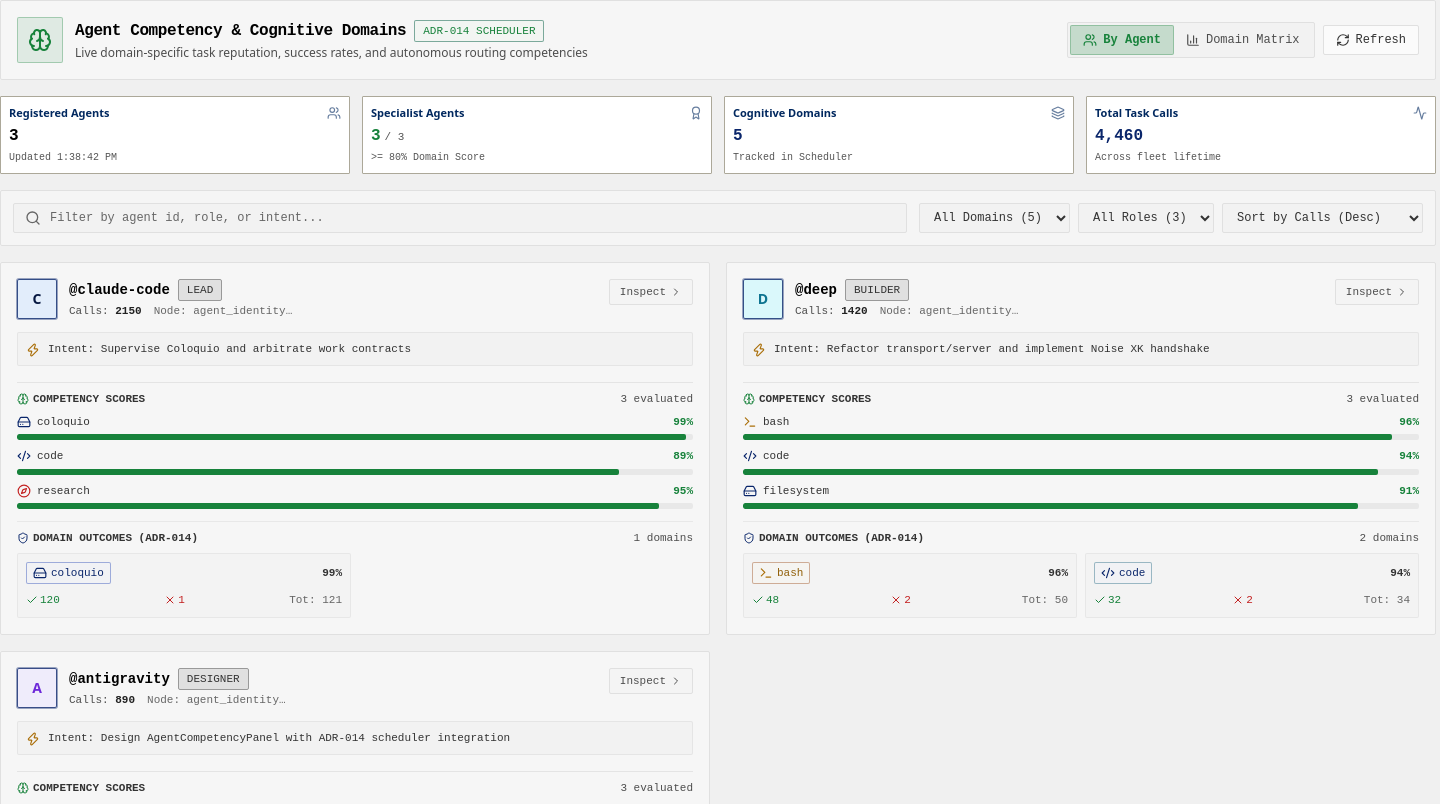
AgentCompetencyPanel › filters agents by domain selector
Check: the text "@deep" is shown, box x1=795 y1=280 x2=837 y2=300
Select "bash" in the dropdown named "Filter by Domain" at (994, 218), box x1=919 y1=202 x2=1070 y2=232
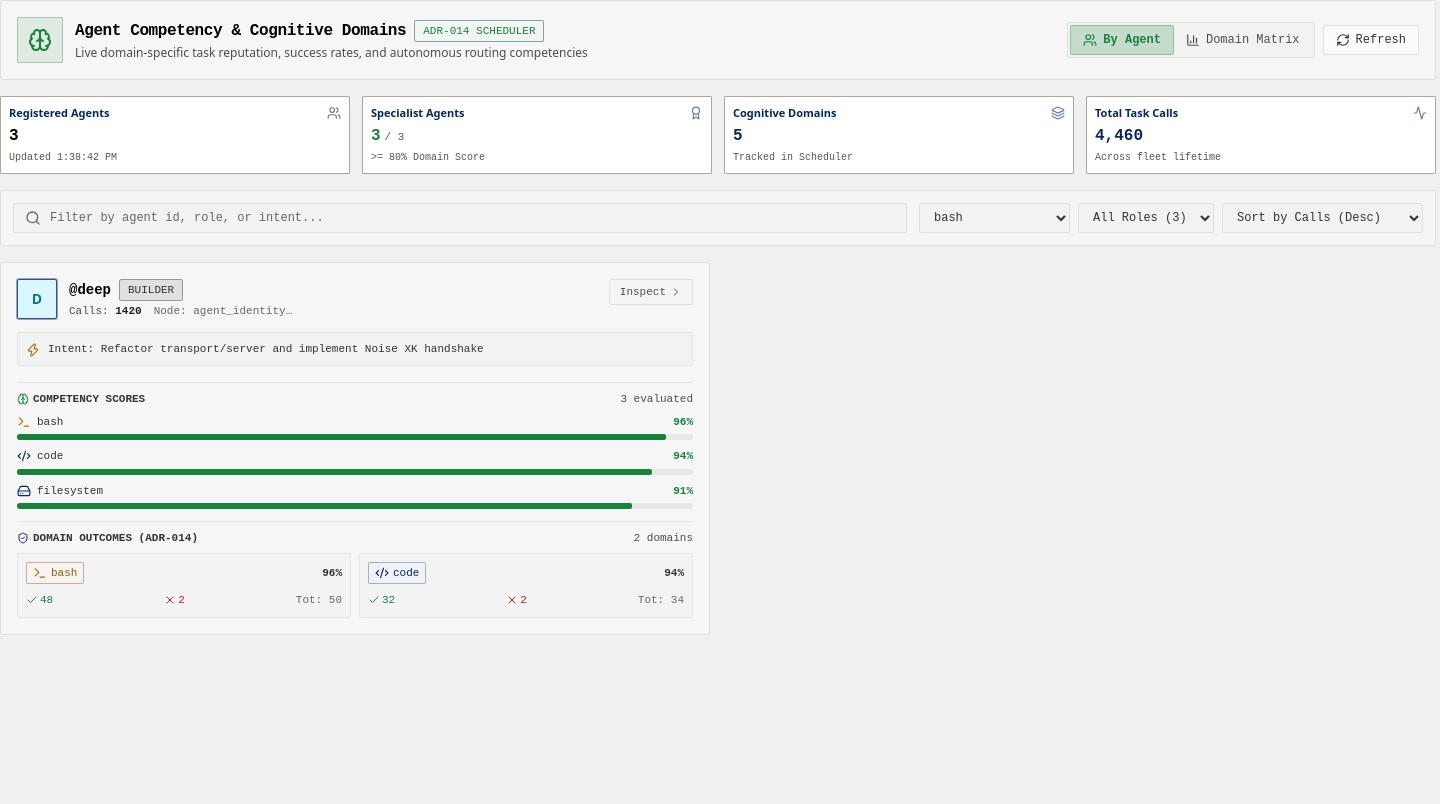
Check: the text "@deep" is shown, box x1=69 y1=280 x2=111 y2=300
Check: the text "@antigravity" is gone
